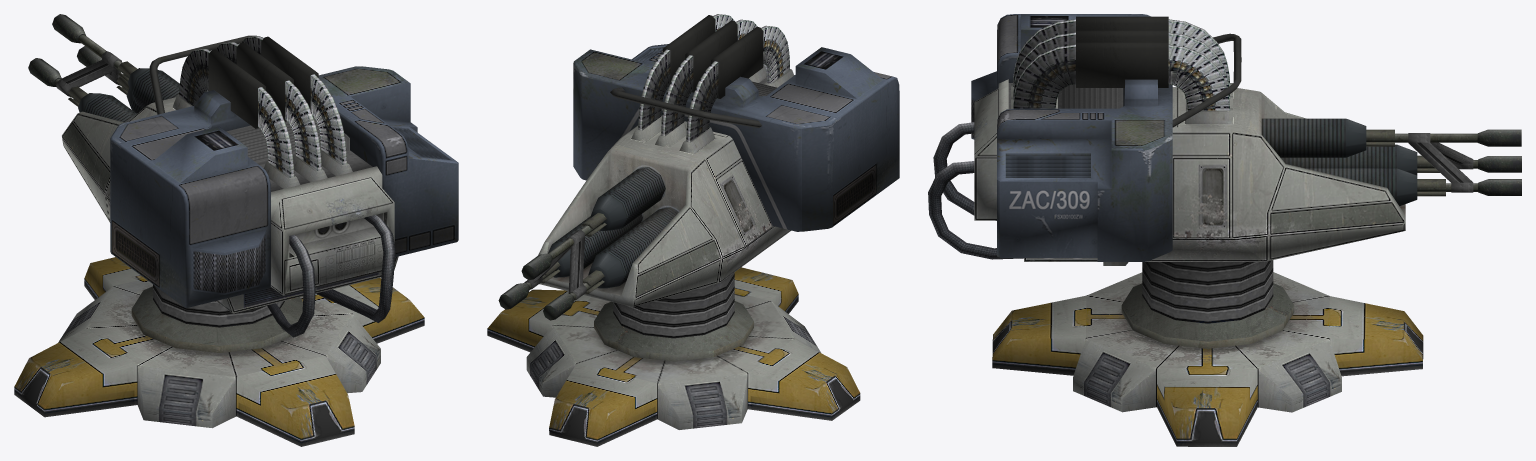
File: Gun_LV3.FBX
3 views of the same model, side by side, from view 1: azimuth 30°, elevation 25°; view 2: azimuth 150°, elevation 25°; view 3: azimuth 270°, elevation 25° (orthographic). The views are drawn at different scales.
Visible parts, largest first — view 1: Base, Core_orient, BlackBox_orient; view 2: Core_orient, Base, BlackBox_orient; view 3: Core_orient, Base, BlackBox_orient.
Boxes of the visible parts, x1,y1,x2,y2 form: Base: (14, 257, 424, 446); Core_orient: (28, 14, 398, 337); BlackBox_orient: (110, 66, 458, 307); Core_orient: (498, 14, 794, 320); Base: (487, 267, 860, 446); BlackBox_orient: (573, 44, 899, 231); Core_orient: (928, 16, 1521, 265); Base: (992, 260, 1423, 446); BlackBox_orient: (971, 14, 1172, 261).
Size of the model in its own units: 4.35 by 3.63 by 6.
2 materials, 2 textured.
